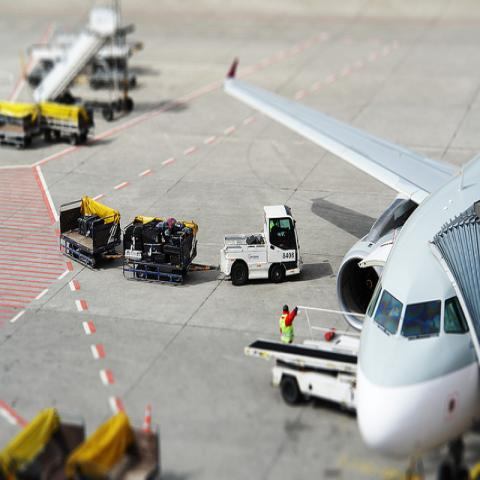truck: (218, 204, 304, 286), (59, 196, 123, 271), (37, 96, 93, 142)
